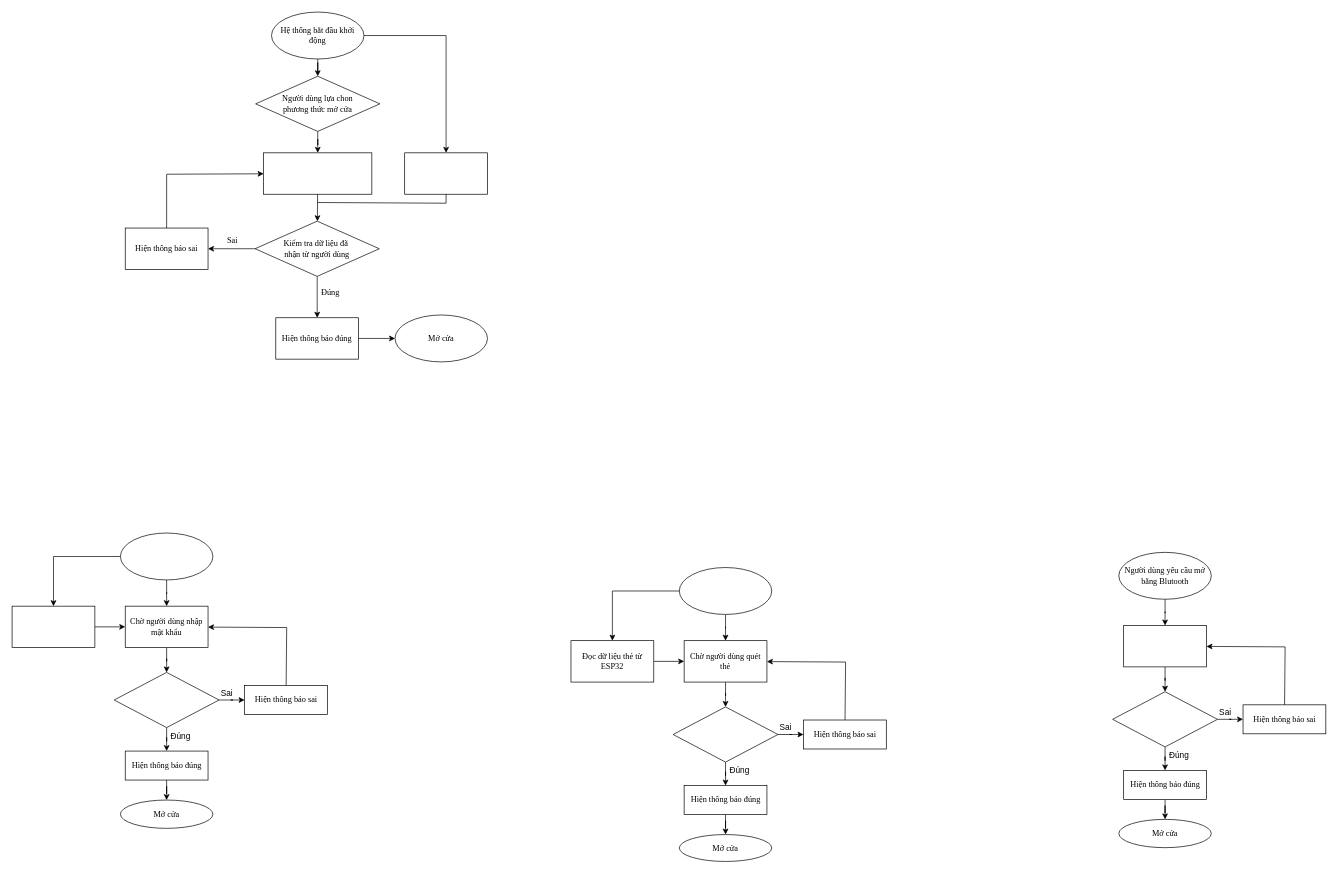
Image size: 1338x874. Some labels were removed from this diagram. The shapes that lost their labels are listed below. From the top down, each one's box as (x1, y1, x2, y2) in pixels, then its label:
(263, 152, 372, 194): Người dùng tiến hành mở cửa (nhập mật khẩu, quẹt thẻ, gửi tín hiệu từ)
(404, 152, 487, 194): Đọc dữ liệu từ Firebase thông qua ESP32
(120, 532, 213, 580): Người dùng yêu cầu mở bằng mật khẩu
(679, 567, 772, 614): Người dùng yêu cầu mở bằng thẻ từ
(11, 605, 95, 648): Đọc dữ liệu mật khẩu từ ESP32
(1123, 625, 1206, 667): Chờ người dùng kết nối Bluetooth và gửi giá trị mở cửa
(114, 672, 219, 728): Kiểm tra mật khẩu đã nhập
(1112, 691, 1218, 747): Kiểm tra giá trị người dùng đã gửi
(672, 706, 778, 762): Kiểm tra thẻ đã quét
